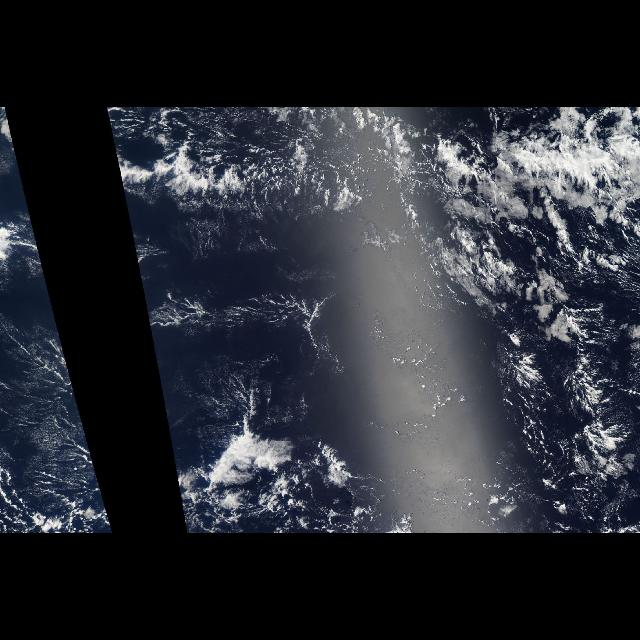Fish: (127, 116, 639, 264), (173, 411, 413, 521)
Gravel: (422, 112, 578, 286)
Sugar: (130, 208, 382, 460), (0, 261, 98, 481)
